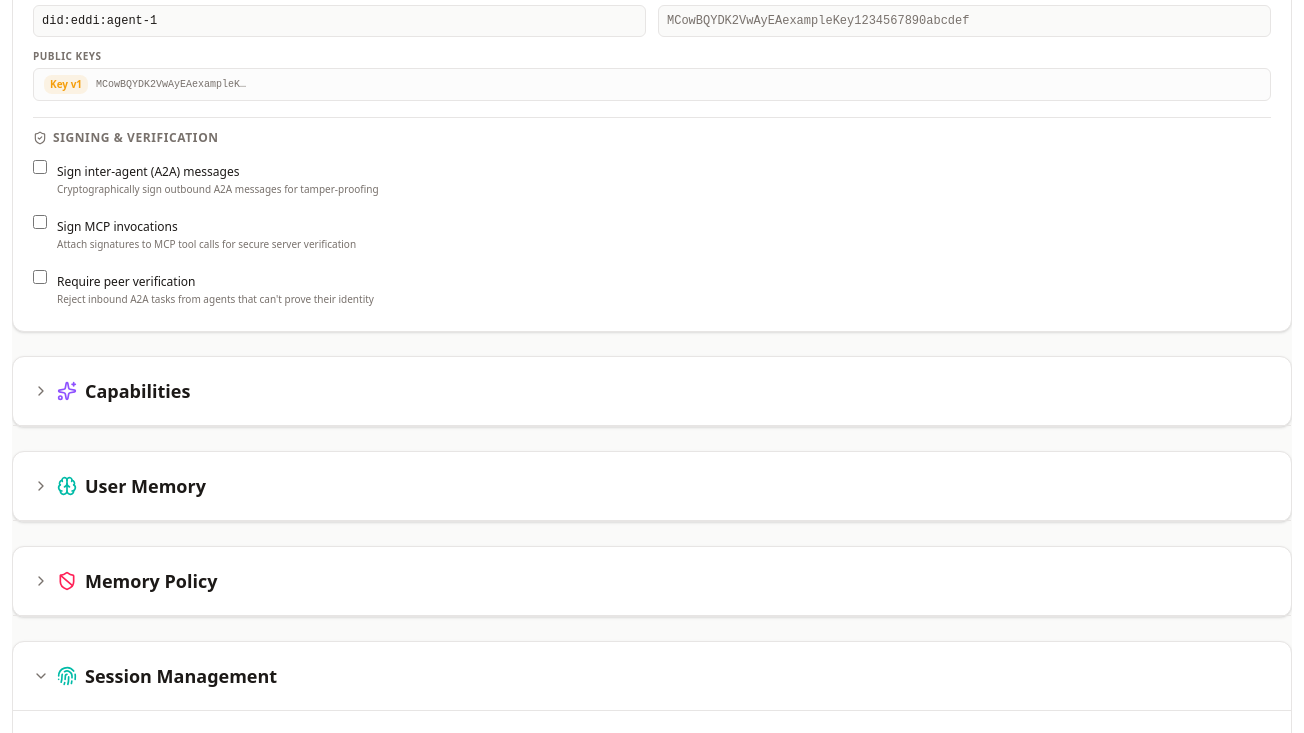
Test case: Agent Detail — Config Sections (Phase 15.4) › renders capabilities section content when expanded
(page scrolled)
Expected: the heading "Capabilities" is shown, [85,377,190,405]
Click the button "Capabilities" at (138, 391), box [13,357,1291,426]
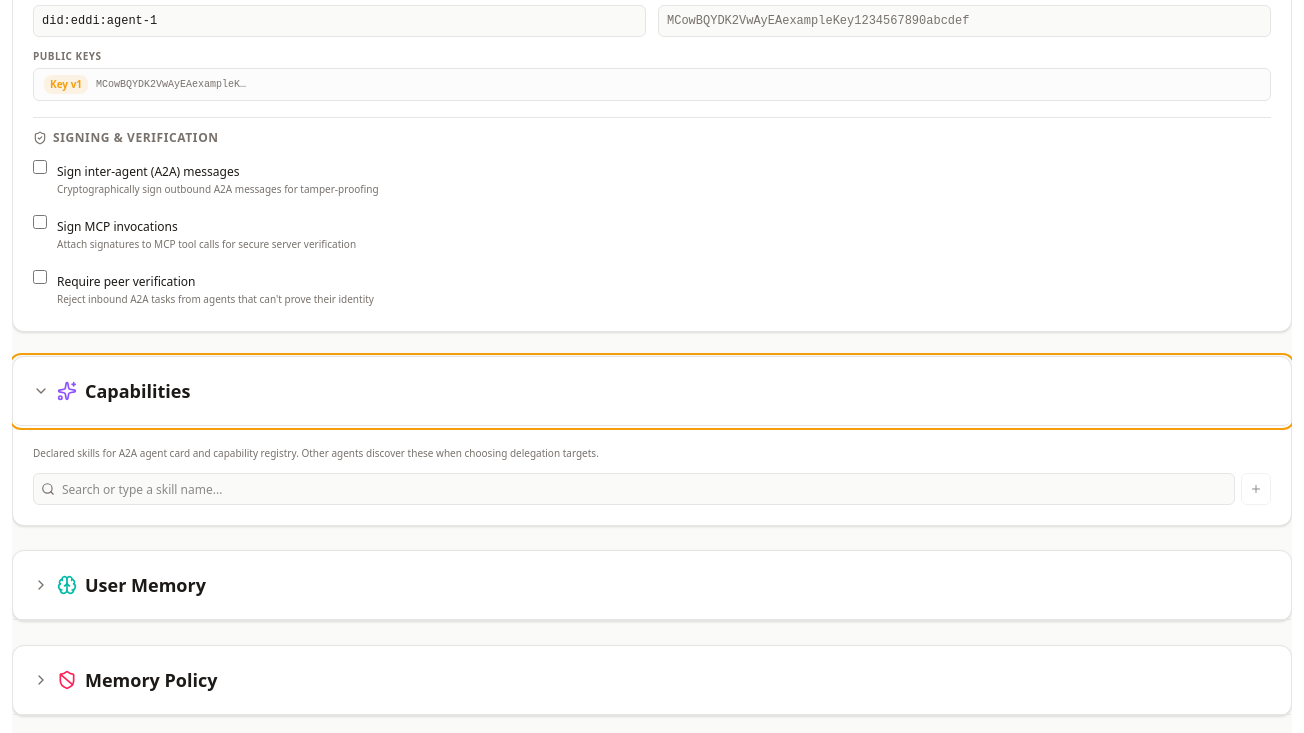
Now the element with test id "capabilities-section" is shown, box [33,446,1271,505]
